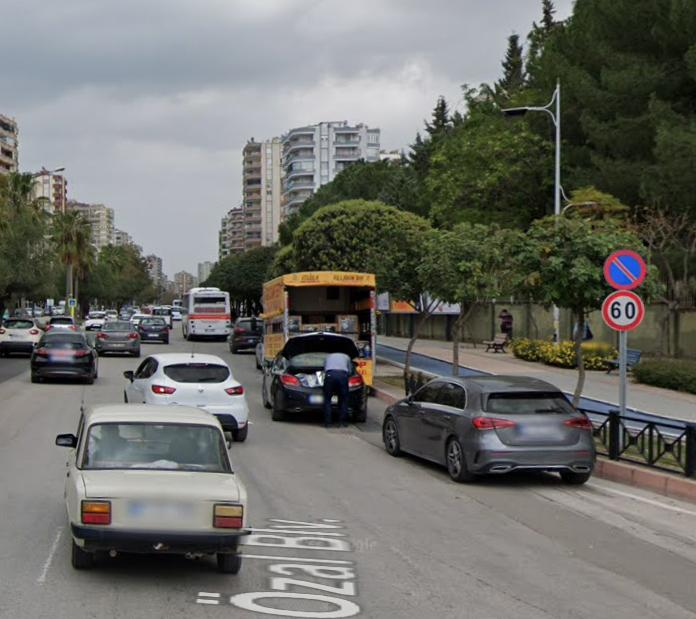nopark: (604, 252, 649, 293)
